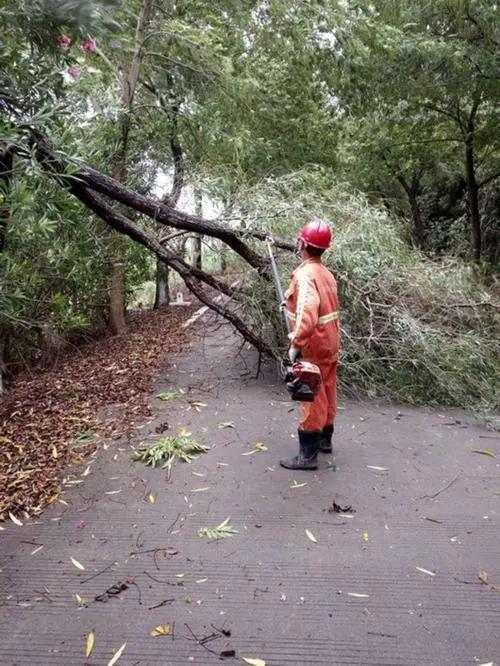Downstairs: (19, 127, 497, 409)
